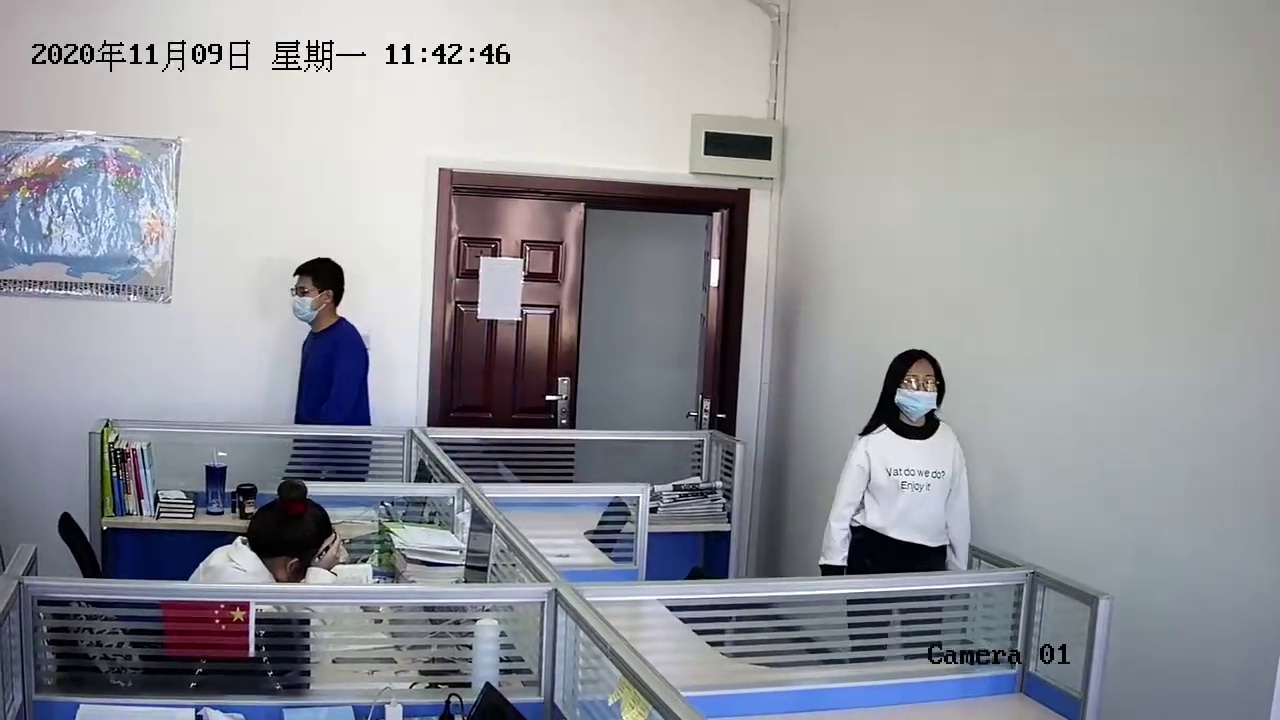mask: (889, 359, 946, 426), (286, 262, 341, 327)
